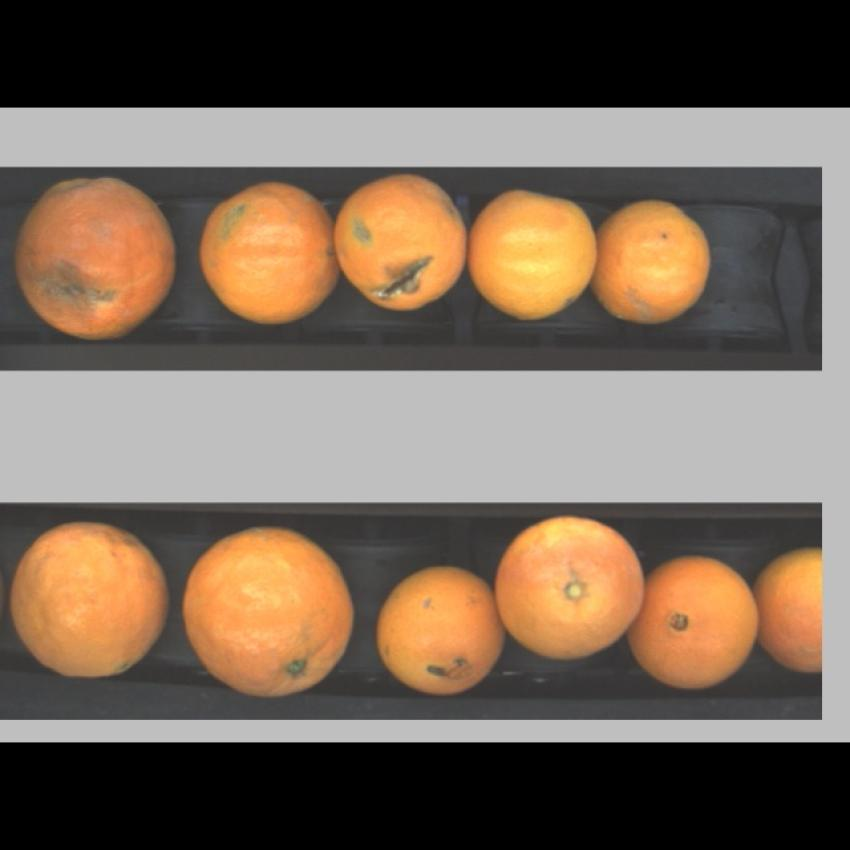Buen estado: (468, 176, 596, 331), (634, 554, 759, 688)
Mal estado: (178, 524, 364, 708), (11, 172, 182, 340), (7, 517, 173, 689), (197, 181, 343, 329), (496, 520, 650, 652), (331, 175, 472, 312), (372, 559, 508, 698), (593, 196, 724, 333), (759, 544, 821, 679)
